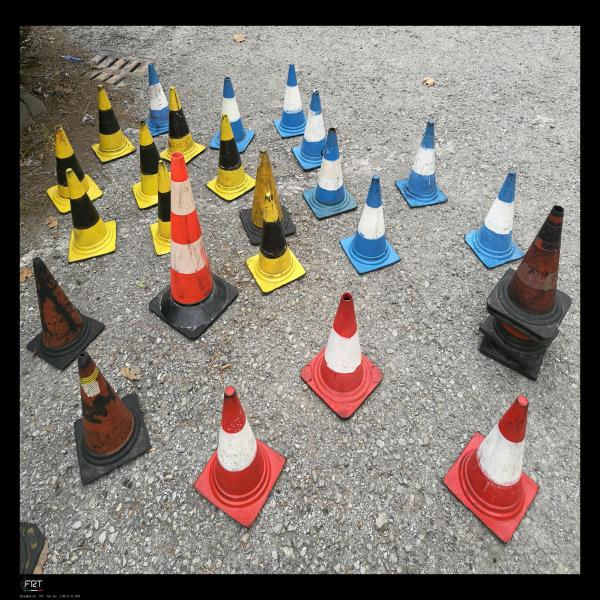blue_cone: (464, 171, 526, 268), (340, 174, 400, 274), (303, 127, 357, 220), (395, 120, 448, 208), (209, 77, 255, 154), (292, 90, 326, 170), (274, 63, 307, 138), (144, 63, 169, 137)
large_orange_cone: (149, 152, 239, 339)
orange_cone: (443, 396, 540, 544), (193, 387, 287, 528), (300, 292, 384, 419)
unknown_cone: (487, 205, 572, 339), (74, 351, 150, 485), (26, 257, 105, 370), (239, 147, 296, 245)
yellow_cone: (245, 192, 306, 293), (47, 125, 103, 214), (66, 168, 116, 263), (205, 113, 256, 200), (159, 86, 207, 164), (91, 84, 137, 163), (132, 120, 162, 209), (150, 160, 171, 256)
